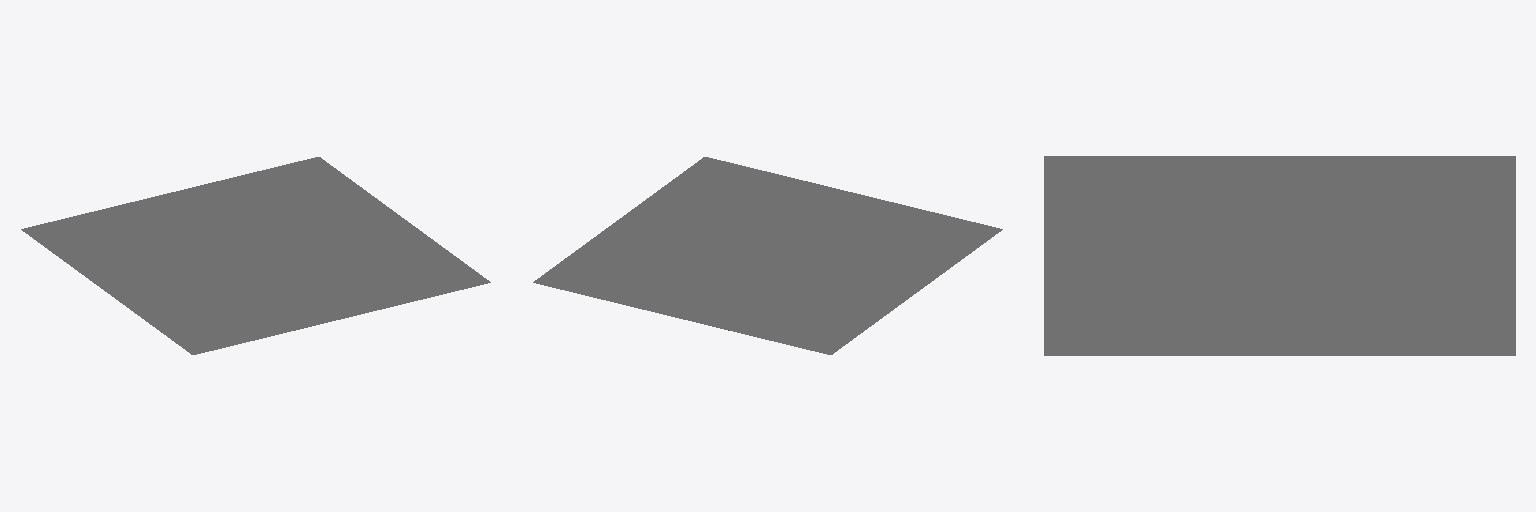
robot.urdf — cube:
<?xml version="1.0" ?>
<robot name="cube">
  <link name="baseLink">
    <contact>
      <damping value="1000.0"/>
      <lateral_friction value="1.0"/>
      <rolling_friction value="0.8"/>
      <contact_cfm value="3.0"/>
      <contact_erp value="1.0"/>
    </contact>
    <inertial>
      <origin rpy="0 0 0" xyz="0 0 0"/>
       <mass value="0.1"/>
       <inertia ixx="1" ixy="0" ixz="0" iyy="1" iyz="0" izz="1"/>
    </inertial>
    <visual>
      <origin rpy="0 0 0" xyz="0 0 0"/>
      <geometry>
	 	<box size="50 50 0.001"/>
      </geometry>
       <material name="red">
        <color rgba="0.5 0.5 0.5 1.0"/>
      </material>
    </visual>
    <collision>
      <origin rpy="0 0 0" xyz="0 0 0"/>
      <geometry>
	 	<box size="50 50 0.001"/>
      </geometry>
    </collision>
  </link>

</robot>

--- Render facts (derived) ---
The picture shows the robot from 3 angles, left to right: view 1: azimuth 30°, elevation 25°; view 2: azimuth 150°, elevation 25°; view 3: azimuth 270°, elevation 25°; orthographic projection.
Model cube with 1 links and 0 joints (none), rooted at baseLink, posed every joint at zero.
Visible links, largest first — view 1: baseLink; view 2: baseLink; view 3: baseLink.
Link boxes in pixels (x1,y1,x2,y2): baseLink: (21, 157, 490, 354); baseLink: (533, 157, 1002, 354); baseLink: (1044, 156, 1515, 355).
Size in the robot's own frame: 50 by 50 by 0.001 metres.
Geometry: primitives only (box / cylinder / sphere), no mesh files.
